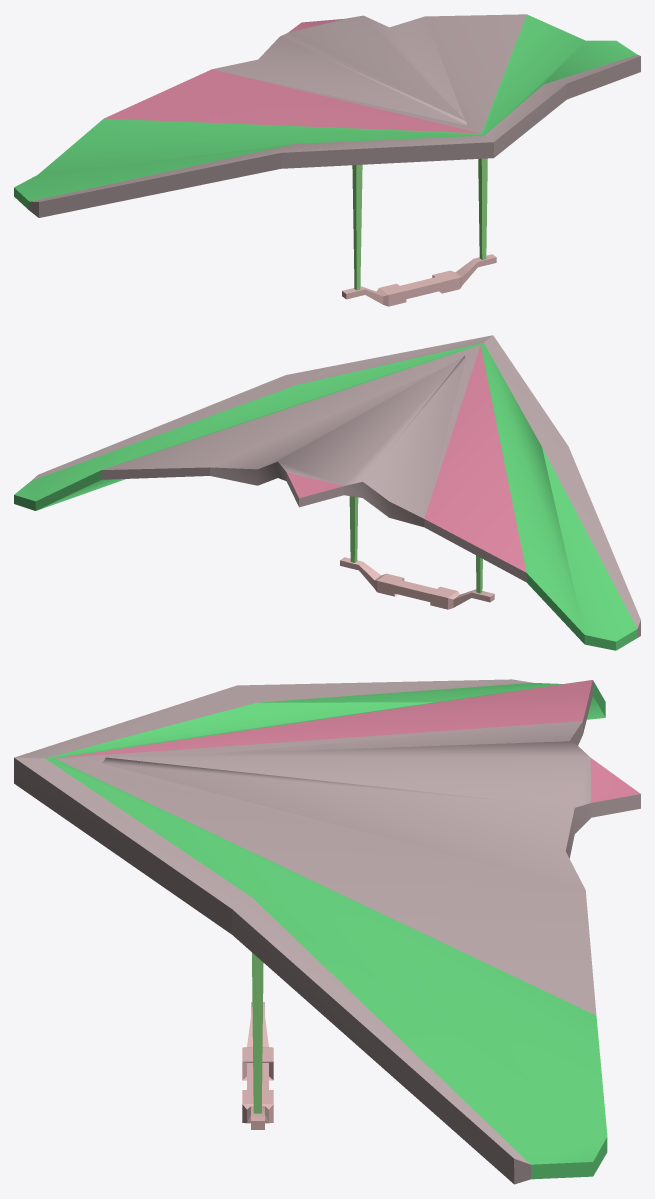
3 renders of one model, top to bottom at view 1: azimuth 30°, elevation 25°; view 2: azimuth 150°, elevation 25°; view 3: azimuth 270°, elevation 25°, orthographic. The views are drawn at different scales.
Parts seen in each view (by area): view 1: 000-0-0, 001-0-1, 003-0-3, 002-0-2; view 2: 000-0-0, 001-0-1, 003-0-3, 002-0-2; view 3: 000-0-0, 001-0-1, 003-0-3, 002-0-2.
Boxes of the visible parts, <box> form: 000-0-0: <box>29,14,640,217</box>; 001-0-1: <box>14,14,637,209</box>; 003-0-3: <box>342,254,496,306</box>; 002-0-2: <box>352,158,487,290</box>; 000-0-0: <box>32,335,640,637</box>; 001-0-1: <box>14,342,637,650</box>; 003-0-3: <box>340,557,494,609</box>; 002-0-2: <box>349,496,482,593</box>; 000-0-0: <box>14,679,640,1184</box>; 001-0-1: <box>45,680,607,1179</box>; 003-0-3: <box>242,1002,273,1129</box>; 002-0-2: <box>252,953,263,1113</box>.
Bounding box in the file's own units: 19.19 × 6.27 × 10.58.
